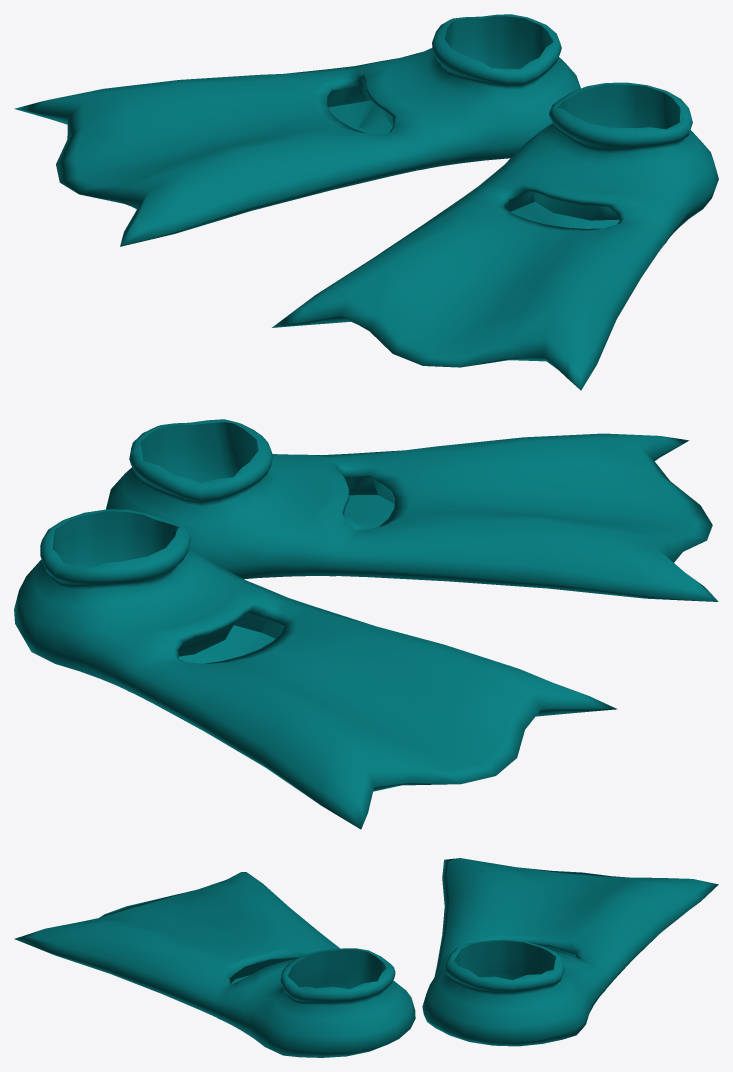
File: aletas.fbx
3 renders of one model, top to bottom at view 1: azimuth 30°, elevation 25°; view 2: azimuth 150°, elevation 25°; view 3: azimuth 270°, elevation 25°, orthographic. The views are drawn at different scales.
Parts seen in each view (by area): view 1: polySurface1; view 2: polySurface1; view 3: polySurface1.
Boxes of the visible parts, left/top/right/bottom form: polySurface1: left=14, top=14, right=718, bottom=390; polySurface1: left=14, top=419, right=718, bottom=829; polySurface1: left=14, top=858, right=718, bottom=1057.
Size of the model in its own units: 9.39 by 1.51 by 13.61.
